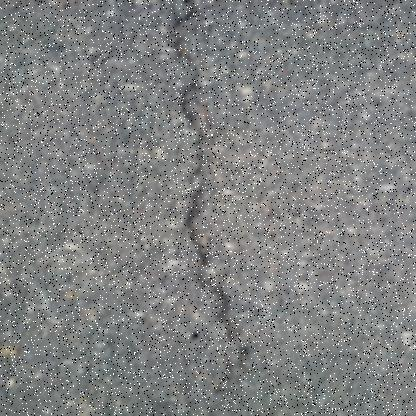Cracks: (153, 0, 262, 397)
